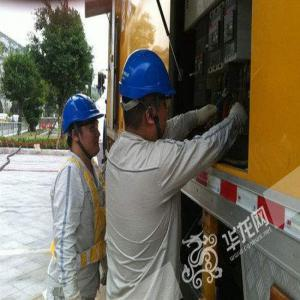blue: (120, 47, 172, 140), (62, 91, 103, 164)
